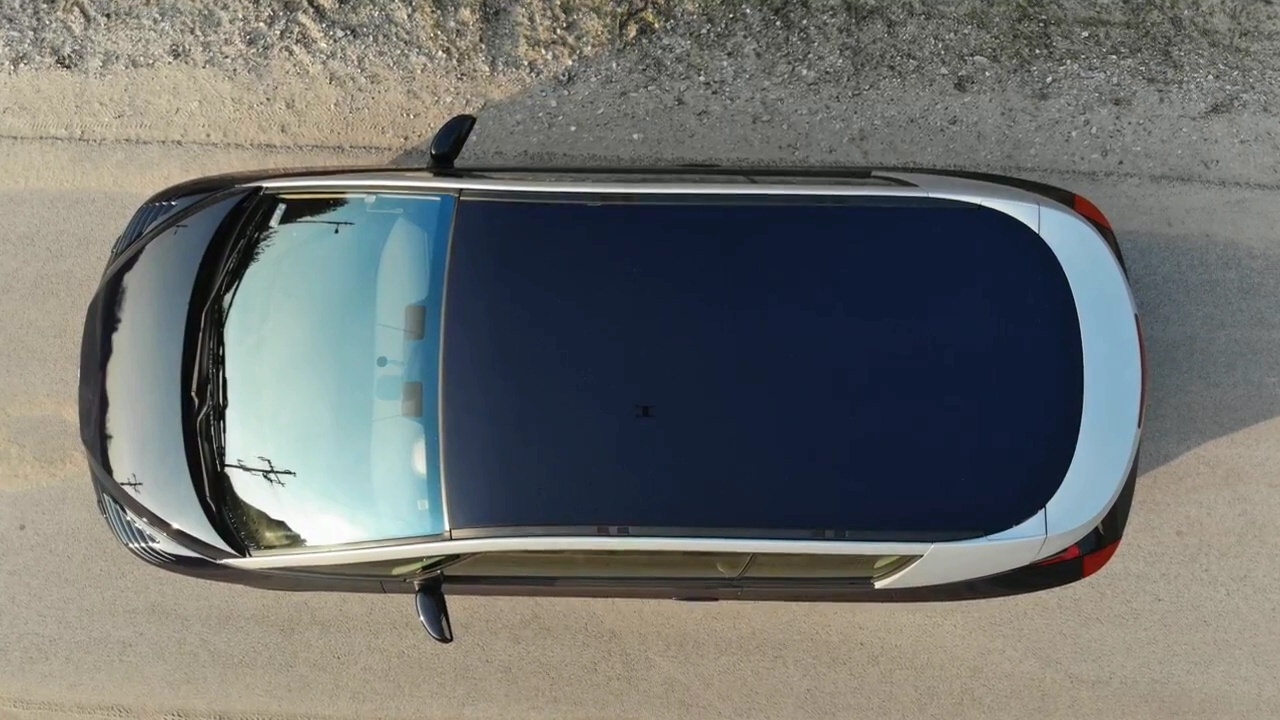araba: (69, 108, 1148, 647)
